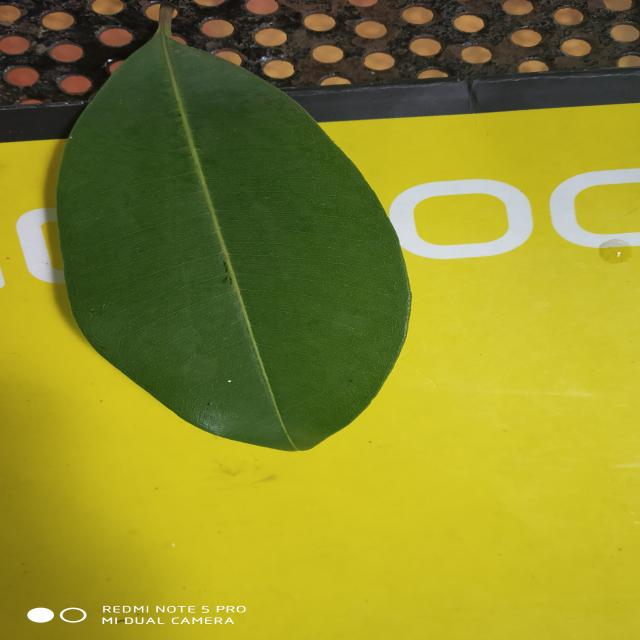sapota: (56, 6, 411, 451)
